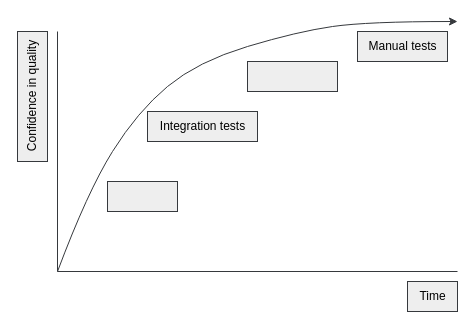
Image size: 476x329. Some labels were removed from this diagram. Each missing label, with the centre of its shape:
"System tests" belongs at (x=292, y=76).
"Unit tests" belongs at (x=142, y=196).
